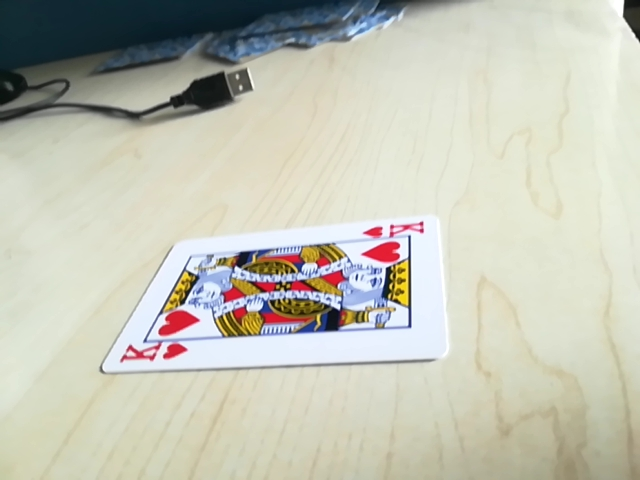hx k: (115, 340, 192, 370), (360, 218, 429, 243)
